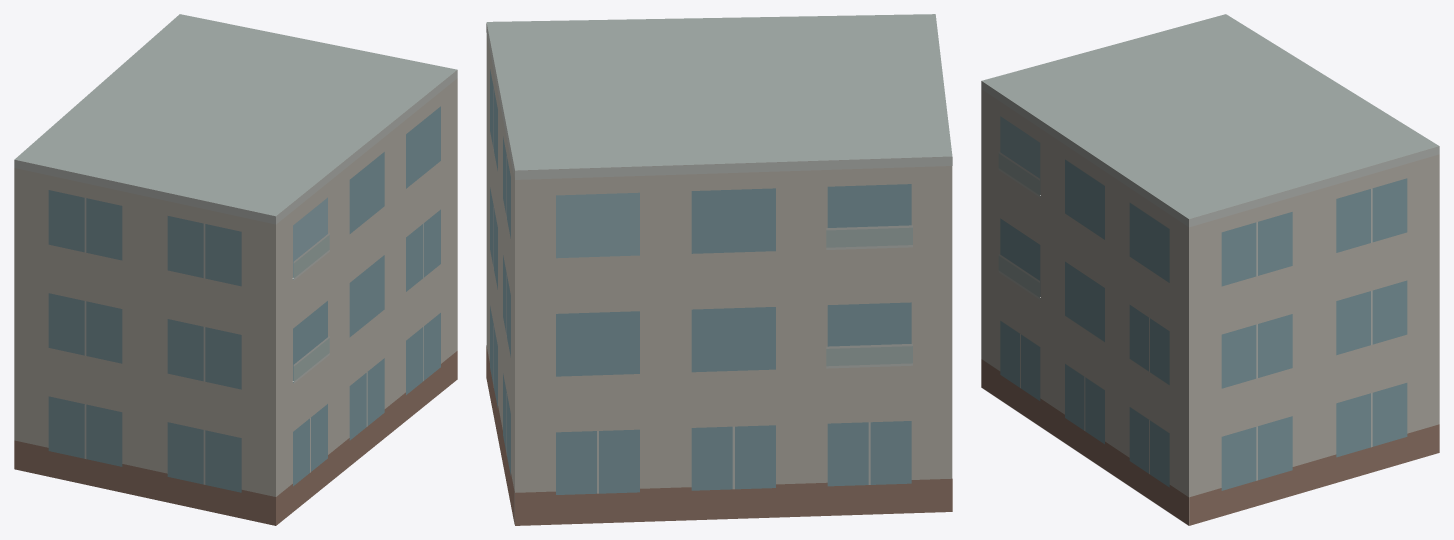
Rendered from survey-upis-32978079.glb.
3 renders of one model, left to right at view 1: azimuth 30°, elevation 25°; view 2: azimuth 150°, elevation 25°; view 3: azimuth 270°, elevation 25°, orthographic. The views are drawn at different scales.
Visible parts, largest first — view 1: survey-upis-32978079.tmp; view 2: survey-upis-32978079.tmp; view 3: survey-upis-32978079.tmp.
Part boxes in pixels (left/top/right/bottom): survey-upis-32978079.tmp: left=14, top=14, right=457, bottom=525; survey-upis-32978079.tmp: left=486, top=14, right=952, bottom=525; survey-upis-32978079.tmp: left=981, top=14, right=1439, bottom=525.
Bounding box in the file's own units: 13.14 × 9.15 × 12.4.
